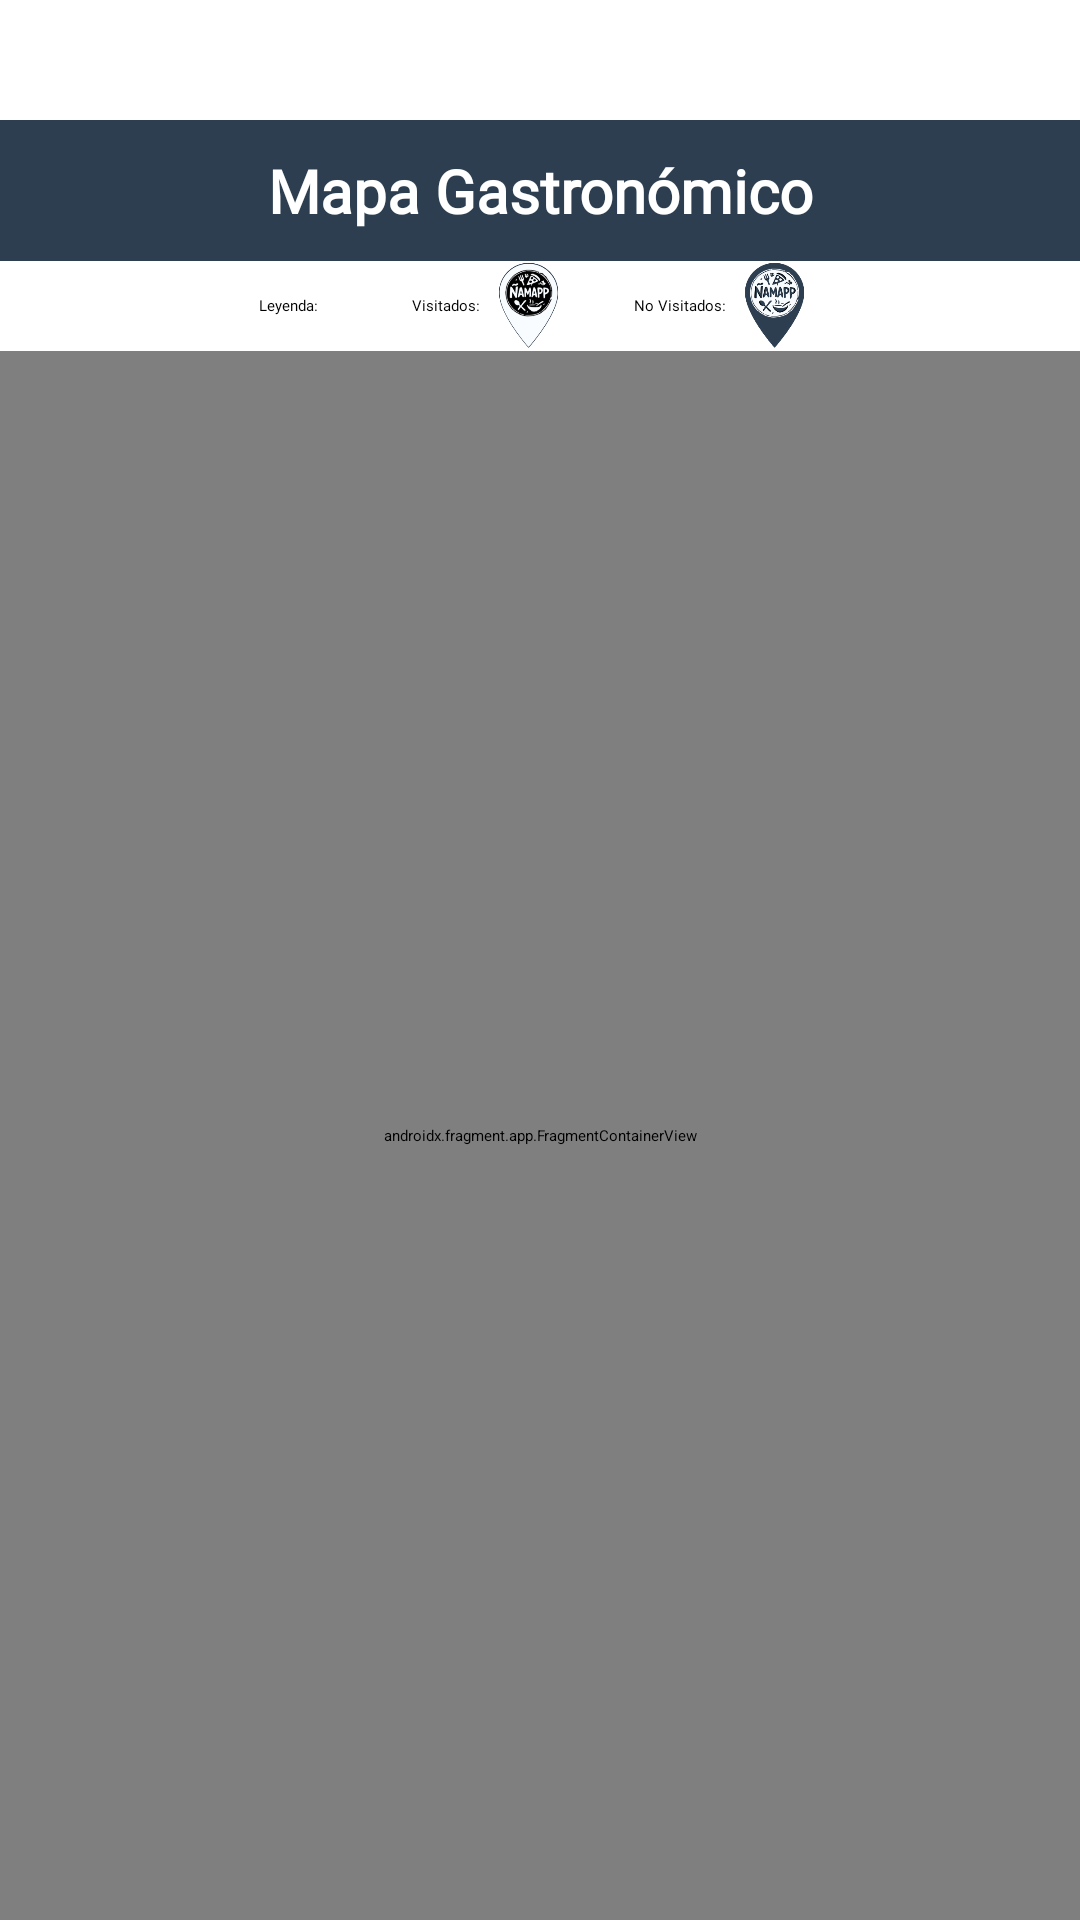

Named icons in this screenshot (1080px x 1920px) and their bounding boxes, (x1, y1, x2, y2):
pin no visitado: (745, 263, 804, 348)
pin visitado: (499, 263, 558, 348)
